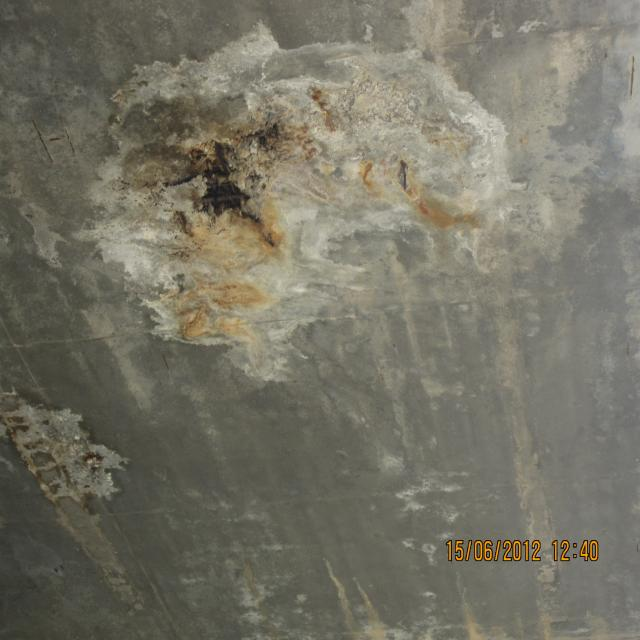corrosion: (130, 77, 514, 346), (3, 387, 145, 510), (28, 106, 81, 173), (624, 50, 640, 111)
